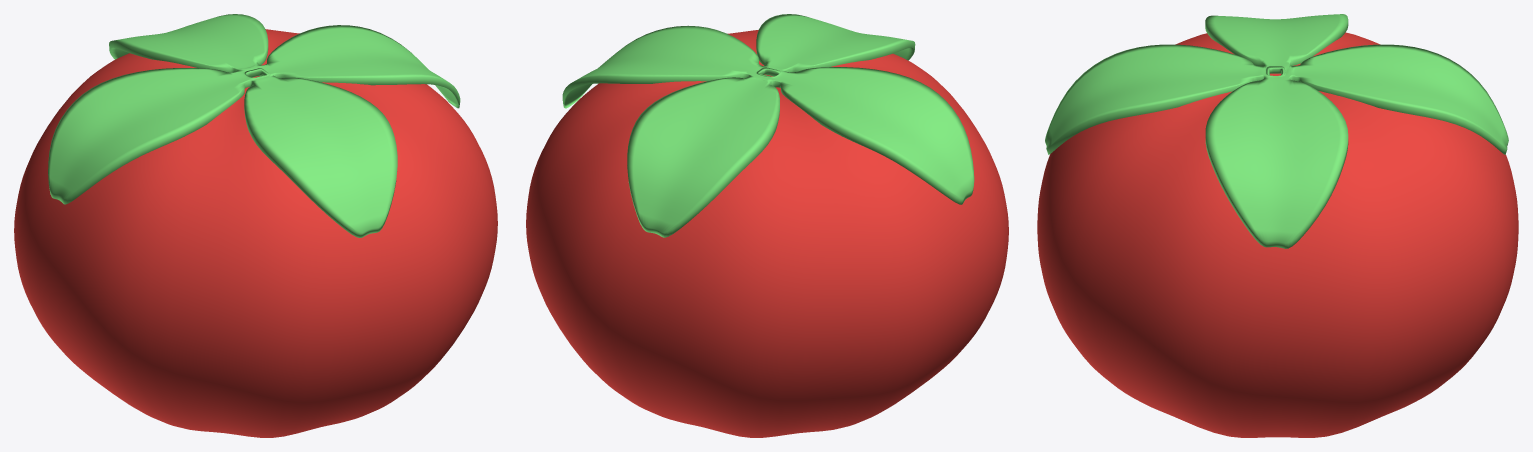
File: tomato.glb
3 renders of one model, left to right at view 1: azimuth 30°, elevation 25°; view 2: azimuth 150°, elevation 25°; view 3: azimuth 270°, elevation 25°, orthographic.
Visible parts, largest first — view 1: Sphere, Plane; view 2: Sphere, Plane; view 3: Sphere, Plane.
Boxes of the visible parts, box(x1,y1,x2,y2) form: Sphere: box(14, 29, 497, 437); Plane: box(48, 14, 460, 237); Sphere: box(526, 30, 1008, 437); Plane: box(562, 14, 974, 237); Sphere: box(1037, 32, 1518, 437); Plane: box(1045, 14, 1508, 248).
Size of the model in its own units: 1.87 by 1.42 by 1.87.
